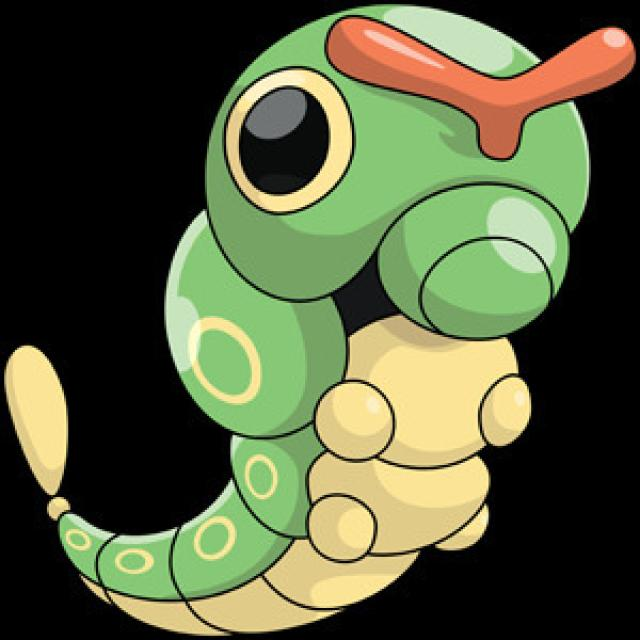Caterpie: (26, 9, 624, 628)
